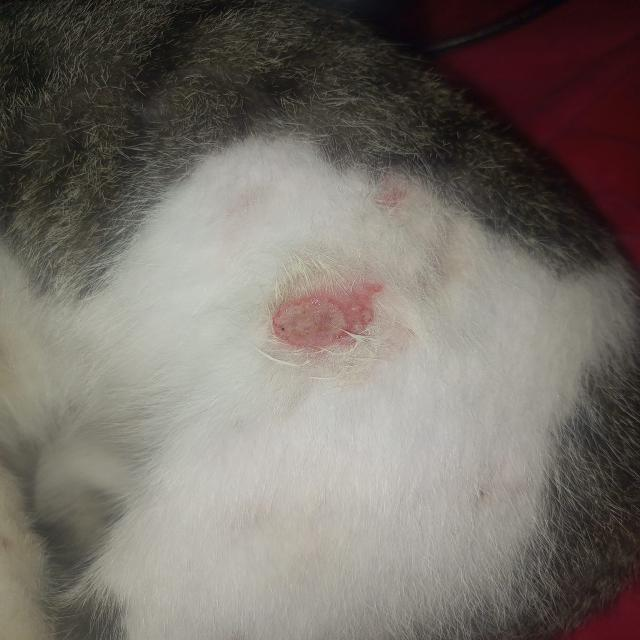hac lao: (238, 256, 429, 388)
